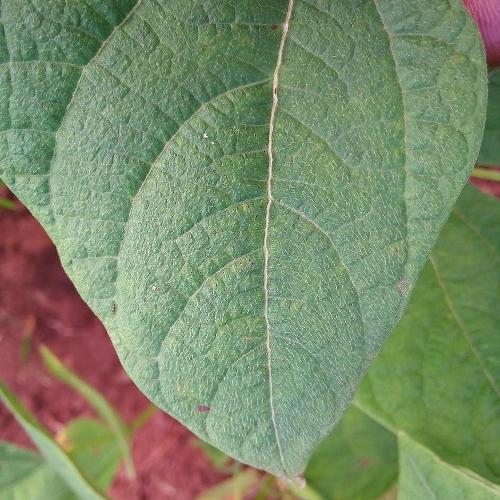sehat: (58, 9, 386, 348)
